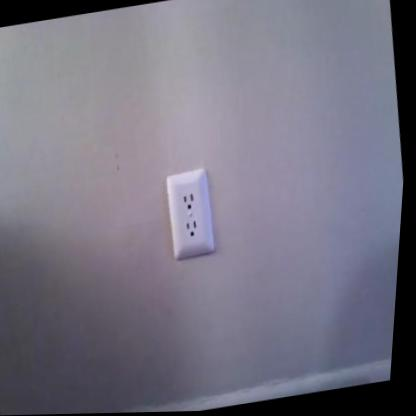OUTLET: (160, 168, 219, 258)
